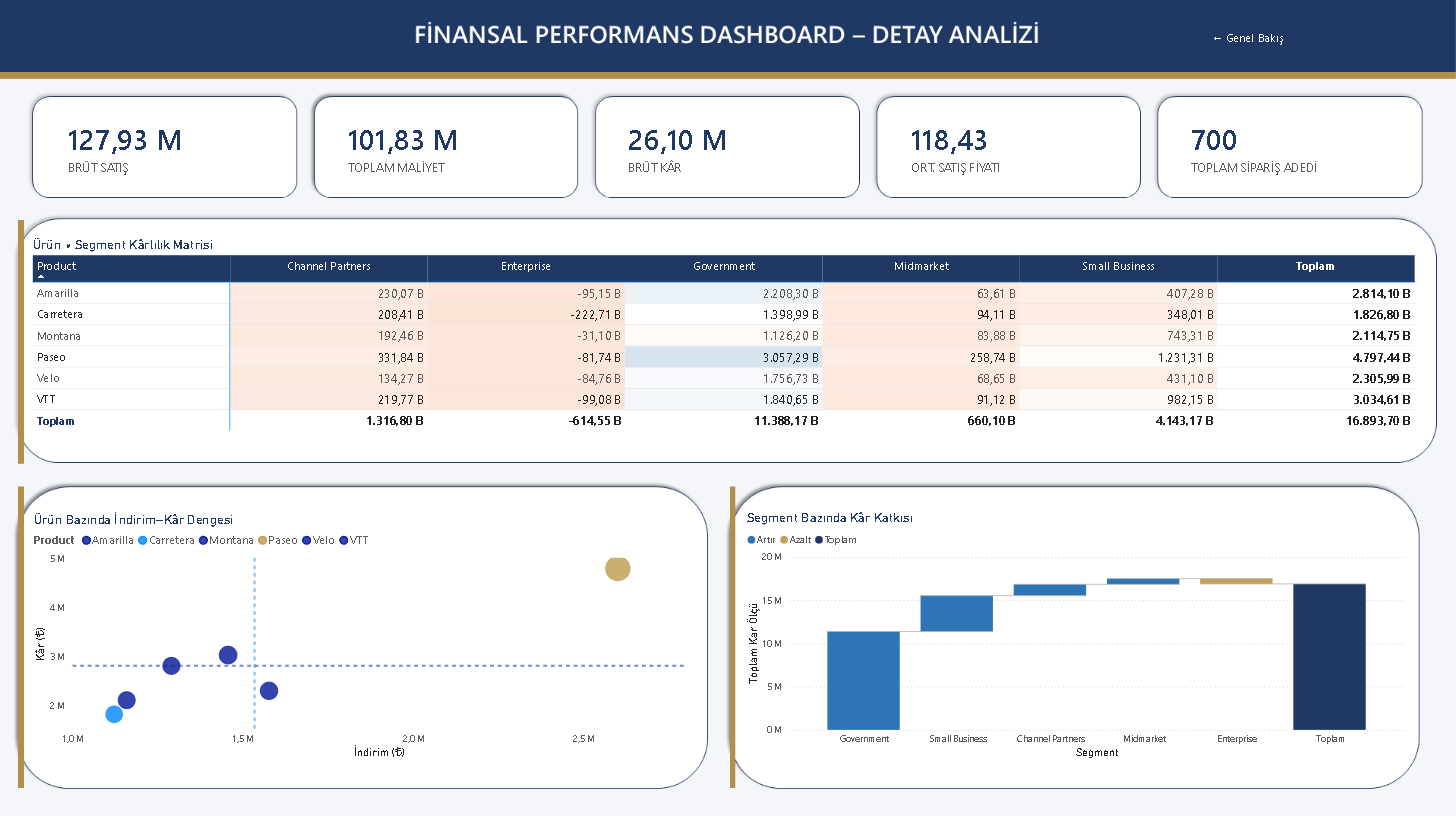

Layout of this report page (visuals, bound fields, positions):
{"tool":"powerbi","page":{"name":"Finansal Dashboard Sayfa 2","canvas":[1920,1080],"ordinal":1},"visuals":[{"type":"cardVisual","fields":{"Data":["Metrikler.Brüt Satış"]},"box":[63.8,131.5,316.2,130.2],"z":0},{"type":"cardVisual","fields":{"Data":["Metrikler.Toplam Maliyet Ölçü"]},"box":[431.4,131.4,315.7,130],"z":1000},{"type":"cardVisual","fields":{"Data":["Metrikler.Brüt Kar Ölçü"]},"box":[801.4,131.4,315.7,130],"z":2000},{"type":"cardVisual","fields":{"Data":["Metrikler.Ortalama Satış Fiyatı Ölçü"]},"box":[1172.9,131.4,315.7,130],"z":3000},{"type":"pivotTable","title":"Ürün × Segment Kârlılık Matrisi","fields":{"Rows":["Finansal.Product"],"Columns":["Finansal.Segment"],"Values":["Metrikler.Toplam Kar Ölçü"]},"box":[41,314.3,1850.3,270.6],"z":4000},{"type":"cardVisual","fields":{"Data":["Metrikler.Sipariş Adedi Ölçü"]},"box":[1542.9,131.4,315.7,130],"z":5000},{"type":"scatterChart","title":"Ürün Bazında İndirim–Kâr Dengesi","fields":{"X":["Sum(Finansal.Discounts)"],"Y":["Sum(Finansal.Profit)"],"Size":["Sum(Finansal.Units Sold)"],"Series":["Finansal.Product"]},"box":[42.1,674.3,883.8,331.9],"z":6000},{"type":"waterfallChart","title":"Segment Bazında Kâr Katkısı","fields":{"Category":["Finansal.Segment"],"Y":["Metrikler.Toplam Kar Ölçü"]},"box":[981.2,674.3,877.2,331.9],"z":6001},{"type":"actionButton","box":[1590.7,31.4,110.7,39.6],"z":6002}]}

Visuals, with their boxes in screenshot pixels (x1, y1, x2, y2), scaled from the page's 1920x1080 canvas onto the 1456x816 screenshot:
cardVisual - Metrikler.Brüt Satış: bbox=[48, 99, 288, 198]
cardVisual - Metrikler.Toplam Maliyet Ölçü: bbox=[327, 99, 567, 198]
cardVisual - Metrikler.Brüt Kar Ölçü: bbox=[608, 99, 847, 198]
cardVisual - Metrikler.Ortalama Satış Fiyatı Ölçü: bbox=[889, 99, 1129, 198]
"Ürün × Segment Kârlılık Matrisi" pivotTable: bbox=[31, 237, 1434, 442]
cardVisual - Metrikler.Sipariş Adedi Ölçü: bbox=[1170, 99, 1409, 198]
"Ürün Bazında İndirim–Kâr Dengesi" scatterChart: bbox=[32, 509, 702, 760]
"Segment Bazında Kâr Katkısı" waterfallChart: bbox=[744, 509, 1409, 760]
actionButton: bbox=[1206, 24, 1290, 54]
